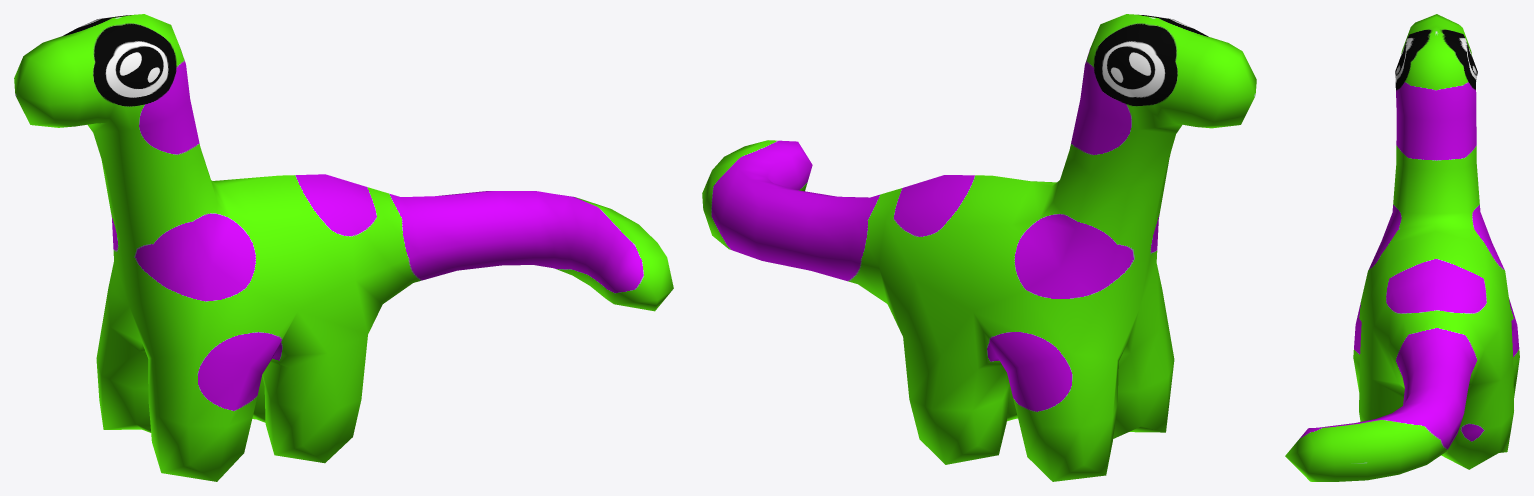
Rendered from Dino.FBX.
3 views of the same model, side by side, from view 1: azimuth 30°, elevation 25°; view 2: azimuth 150°, elevation 25°; view 3: azimuth 270°, elevation 25° (orthographic). The views are drawn at different scales.
Parts seen in each view (by area): view 1: Box001; view 2: Box001; view 3: Box001.
Boxes of the visible parts, x1,y1,x2,y2 form: Box001: (14, 14, 673, 481); Box001: (702, 14, 1256, 481); Box001: (1285, 14, 1519, 481).
Bounding box in the file's own units: 797 × 596 × 351.
Materials: 1 (1 with a texture image).
